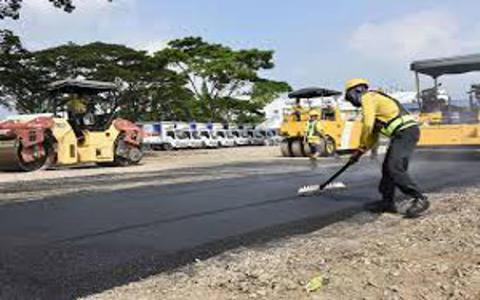Proper road: (29, 188, 259, 240)
